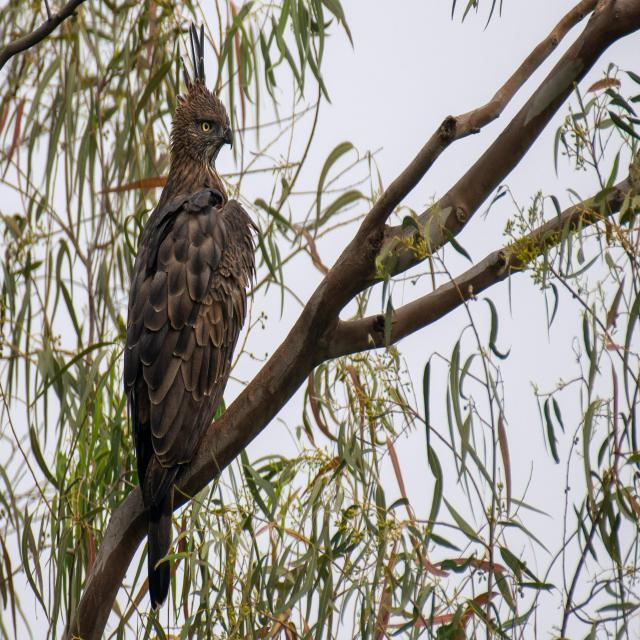Elang Jawa: (101, 6, 286, 640)
